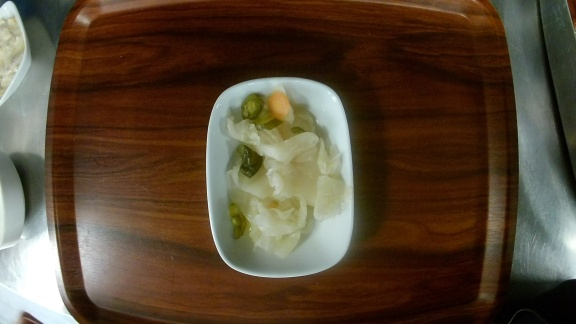tursu: (204, 76, 355, 279)
